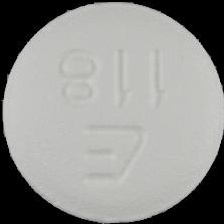0185-0118: (0, 0, 224, 224)
